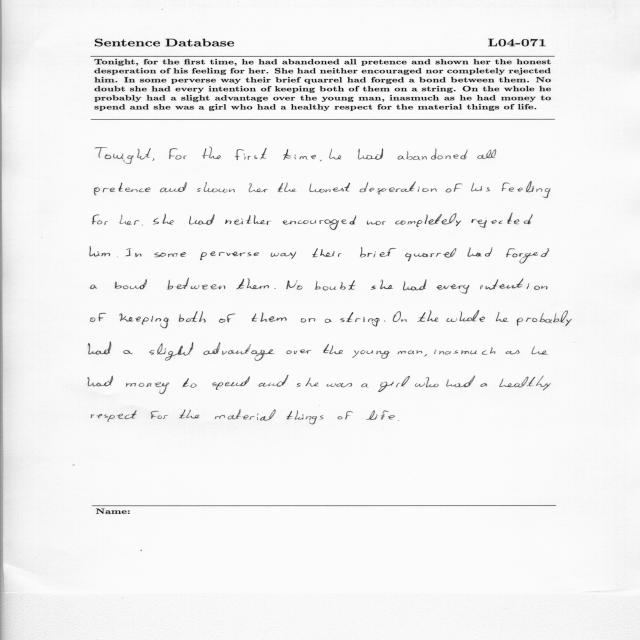word: (204, 342, 274, 361), (283, 215, 357, 230), (360, 182, 437, 195), (95, 147, 151, 164), (471, 213, 533, 228), (395, 213, 461, 227), (398, 149, 468, 161), (150, 342, 194, 361), (517, 311, 572, 326), (502, 181, 550, 198), (480, 278, 548, 290), (499, 376, 551, 391), (120, 314, 169, 329), (215, 409, 276, 421), (167, 278, 225, 290), (506, 248, 549, 264), (405, 248, 457, 261), (95, 183, 151, 195), (341, 312, 380, 327), (91, 410, 137, 422), (212, 376, 250, 390), (200, 252, 259, 261), (126, 382, 169, 394), (378, 376, 410, 392), (287, 411, 323, 425), (446, 310, 485, 322), (225, 215, 271, 225), (315, 280, 356, 291), (434, 348, 495, 355), (309, 183, 350, 193), (235, 148, 267, 160), (197, 182, 235, 192), (283, 149, 316, 160), (236, 279, 269, 290), (360, 247, 396, 257), (259, 375, 289, 387), (352, 350, 389, 359), (437, 284, 470, 294), (115, 279, 147, 289), (446, 376, 475, 387), (252, 313, 287, 322), (178, 311, 206, 322), (312, 248, 342, 258), (189, 214, 215, 225), (89, 342, 112, 354), (358, 149, 383, 160), (88, 376, 113, 387), (160, 182, 187, 192), (403, 280, 426, 291), (418, 310, 439, 322), (468, 247, 493, 257), (415, 377, 439, 387), (153, 214, 174, 225), (296, 377, 319, 387), (366, 410, 389, 420), (202, 147, 221, 159), (120, 214, 140, 225), (371, 280, 393, 290), (169, 148, 186, 160), (90, 247, 110, 257), (271, 251, 296, 259), (323, 344, 343, 354), (477, 149, 496, 159), (278, 182, 297, 192), (179, 410, 199, 419), (249, 183, 268, 192), (286, 280, 303, 290), (93, 214, 108, 225), (154, 252, 186, 257), (219, 313, 235, 323), (393, 311, 407, 322), (446, 184, 463, 193), (125, 248, 142, 257), (471, 183, 490, 191), (182, 378, 197, 388), (532, 346, 549, 354), (151, 411, 168, 419), (91, 313, 106, 322), (338, 411, 353, 420), (329, 149, 342, 159), (287, 349, 312, 354), (496, 312, 508, 322), (398, 350, 423, 354), (327, 383, 352, 387), (367, 220, 386, 225), (301, 318, 316, 323), (506, 351, 520, 355), (123, 350, 133, 354), (361, 384, 369, 388), (480, 383, 487, 387), (388, 415, 395, 419), (91, 285, 97, 289), (325, 319, 331, 323), (152, 158, 154, 161), (424, 354, 427, 356), (320, 160, 322, 162), (274, 288, 276, 289), (384, 321, 386, 322), (142, 225, 143, 226), (117, 257, 118, 257)
